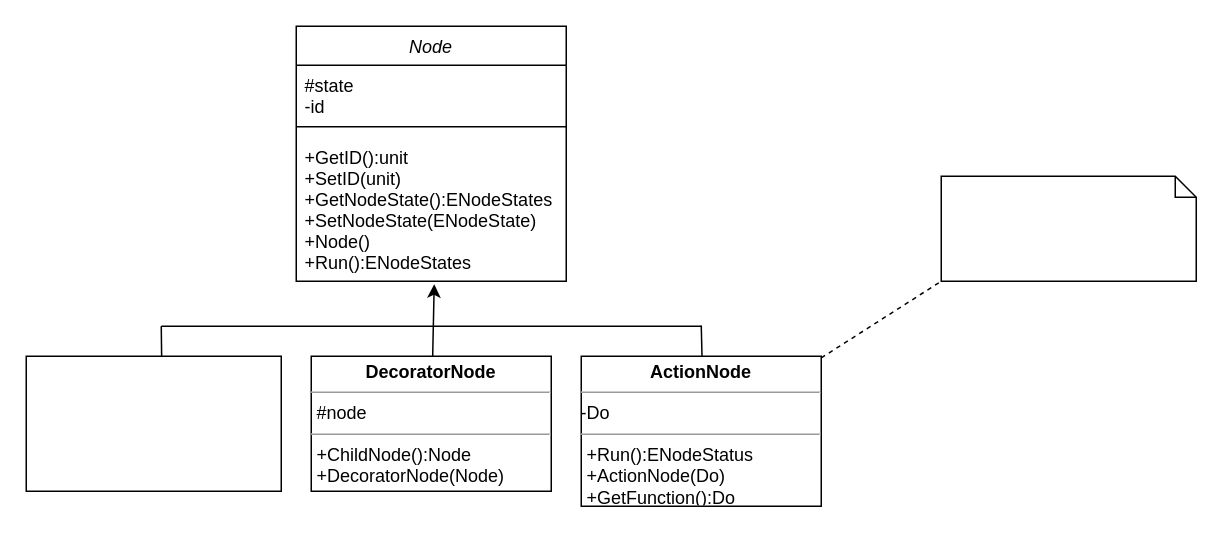
Image size: 1223x533. Some labels were removed from this diagram. Here are the shapes that lost their labels. From the top down, the centre of each, then its label:
At point 1068,228: "public ENodeStatus do()".
At point 153,423: "CompositeNode #nodes +ChildNodeList():List<Node> +CompositeNode(List<Node>)".
